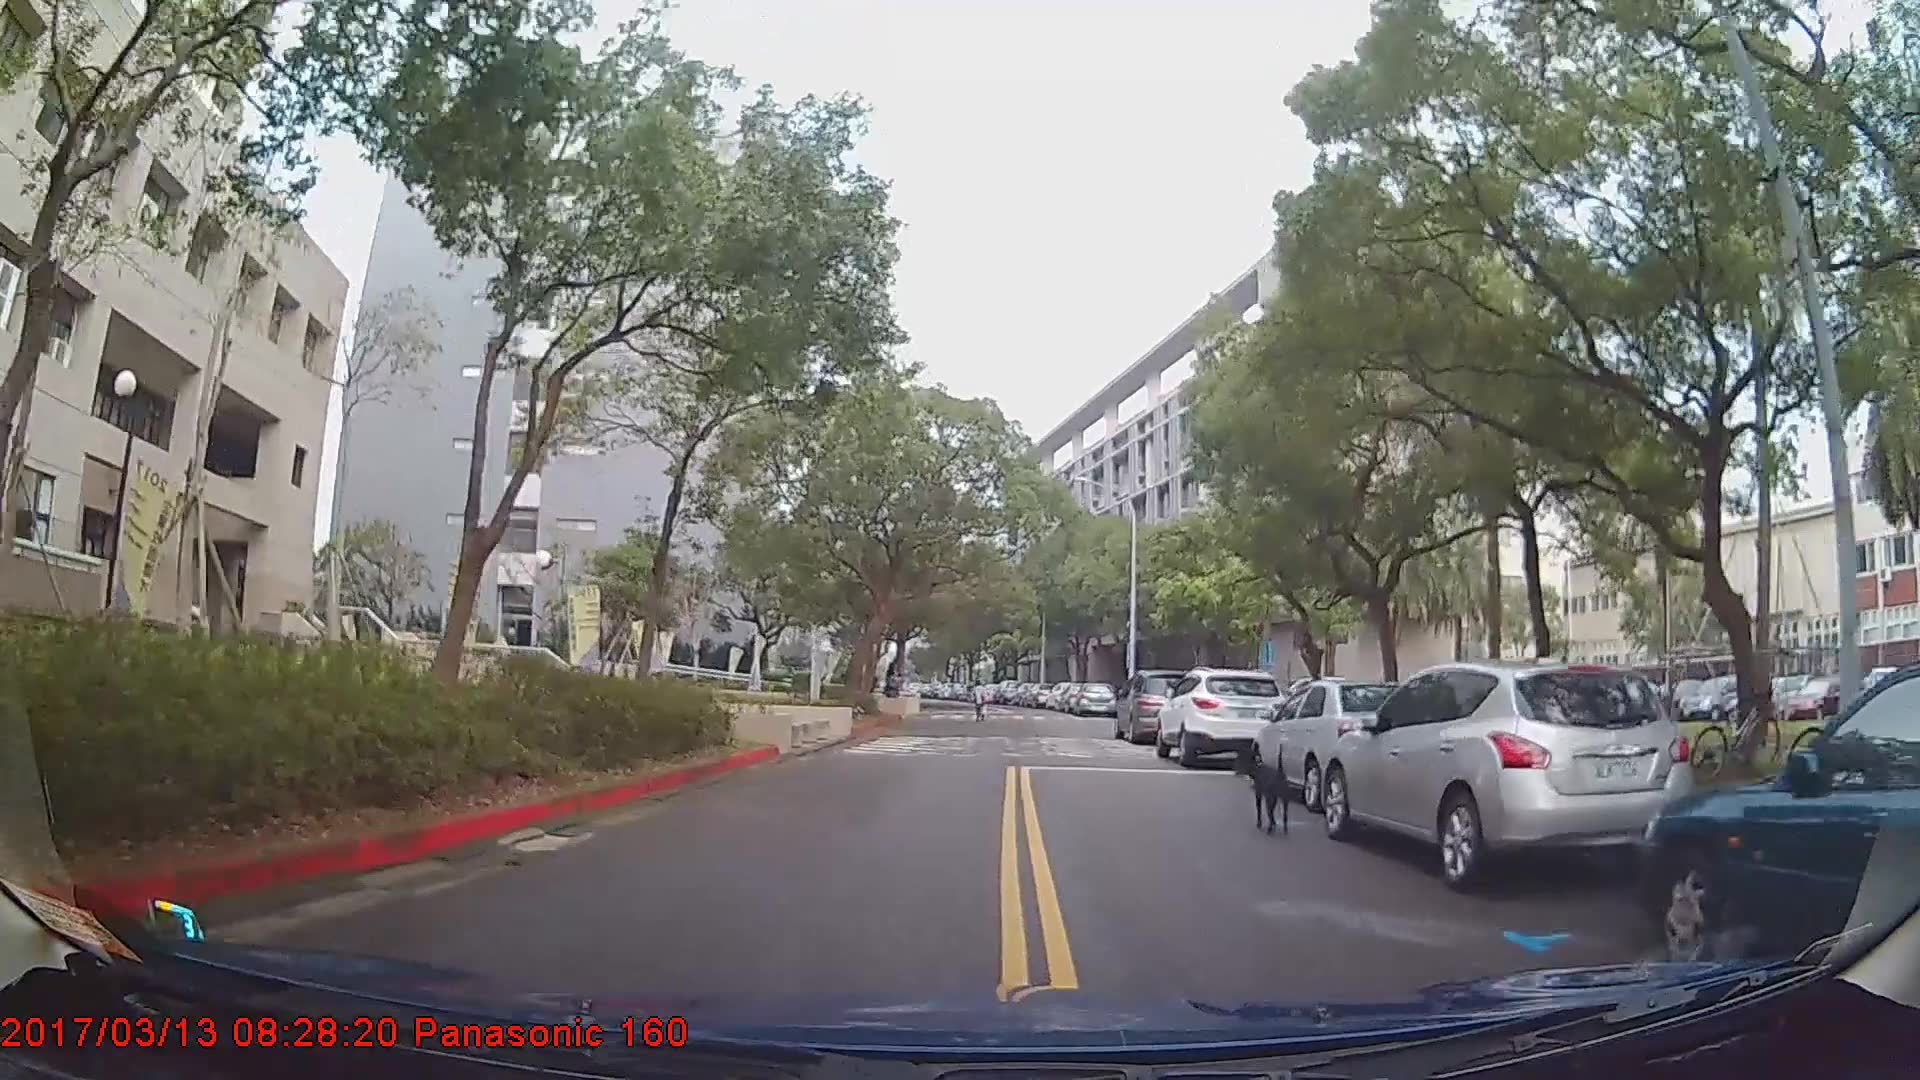pedestrian: (969, 679, 989, 723)
vehicle: (1325, 655, 1695, 892), (1637, 671, 1920, 971), (1249, 674, 1440, 811), (1155, 663, 1288, 764), (1112, 667, 1212, 741), (1072, 679, 1115, 717), (989, 673, 1016, 701)
